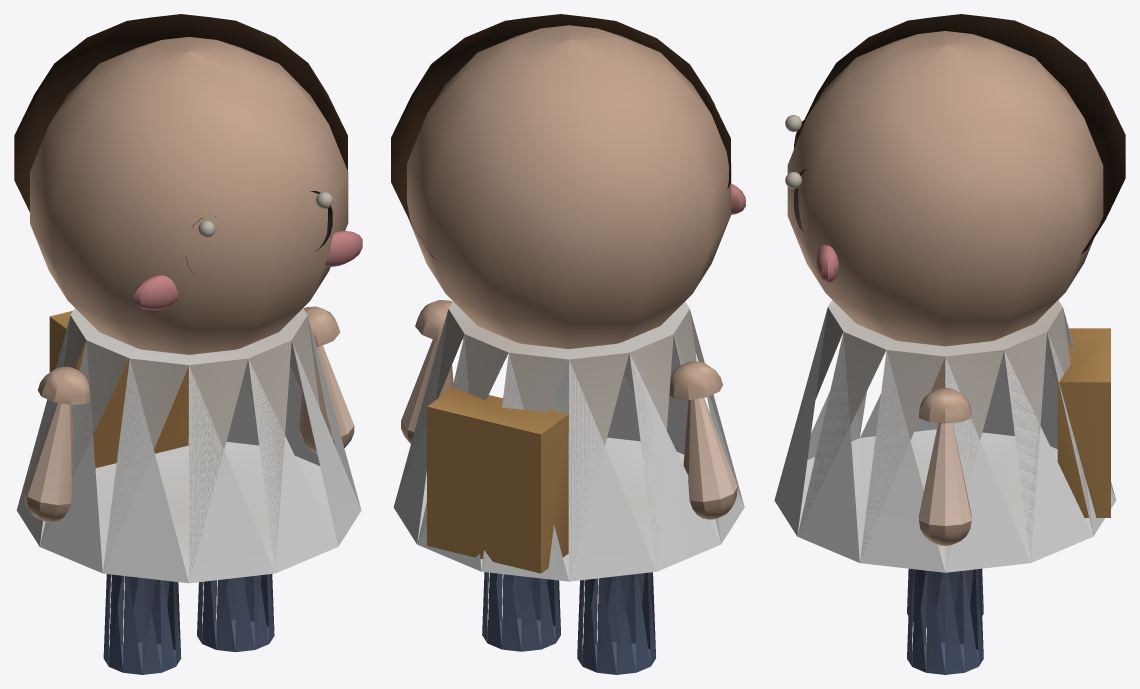
3 views of the same model, side by side, from view 1: azimuth 30°, elevation 25°; view 2: azimuth 150°, elevation 25°; view 3: azimuth 270°, elevation 25° (orthographic). The views are drawn at different scales.
Visible parts, largest first — view 1: pet_p57d13781; view 2: pet_p57d13781; view 3: pet_p57d13781.
Part boxes in pixels (left/top/right/bottom): pet_p57d13781: left=14, top=14, right=362, bottom=674; pet_p57d13781: left=391, top=14, right=745, bottom=674; pet_p57d13781: left=774, top=14, right=1125, bottom=674.
Size of the model in its own units: 0.2944 by 0.5313 by 0.2793.
